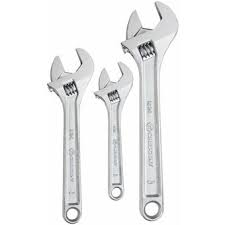wrench: (119, 1, 202, 223)
